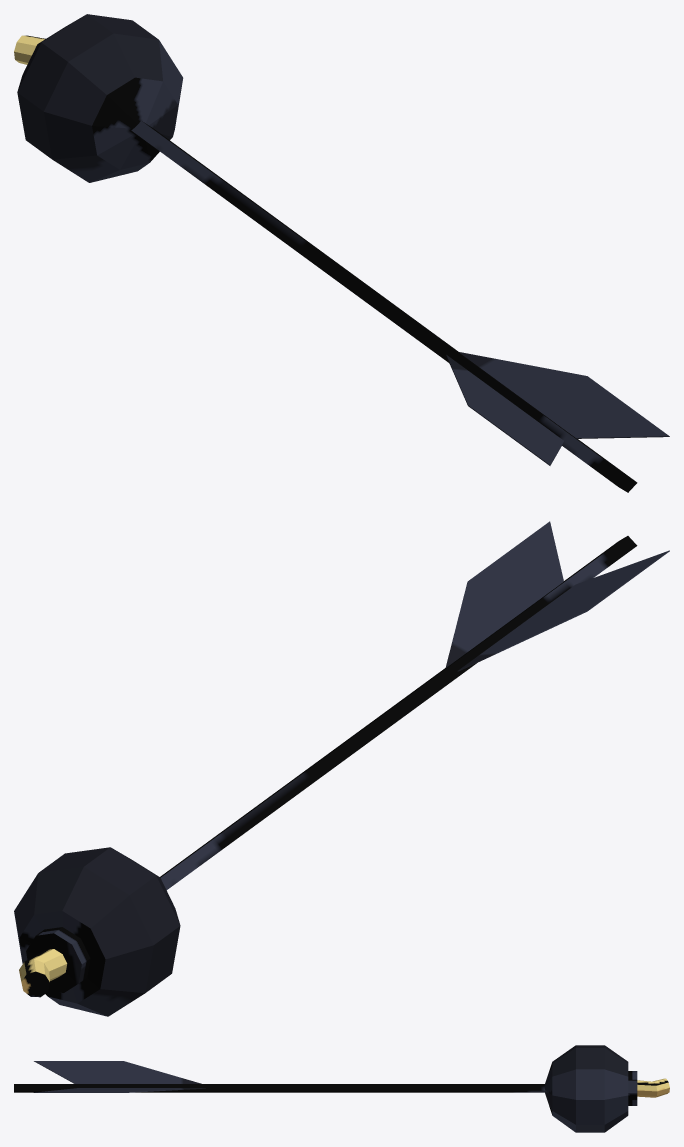
File: Bomb Arrow.fbx
3 views of the same model, one above another, from view 1: azimuth 30°, elevation 25°; view 2: azimuth 150°, elevation 25°; view 3: azimuth 270°, elevation 25° (orthographic). The views are drawn at different scales.
Visible parts, largest first — view 1: Bomb aRROW; view 2: Bomb aRROW; view 3: Bomb aRROW.
Part boxes in pixels (bbox=[...]): Bomb aRROW: bbox=[14, 14, 669, 492]; Bomb aRROW: bbox=[14, 521, 669, 1016]; Bomb aRROW: bbox=[14, 1045, 669, 1132].
Size of the model in its own units: 173 by 176 by 1312.
